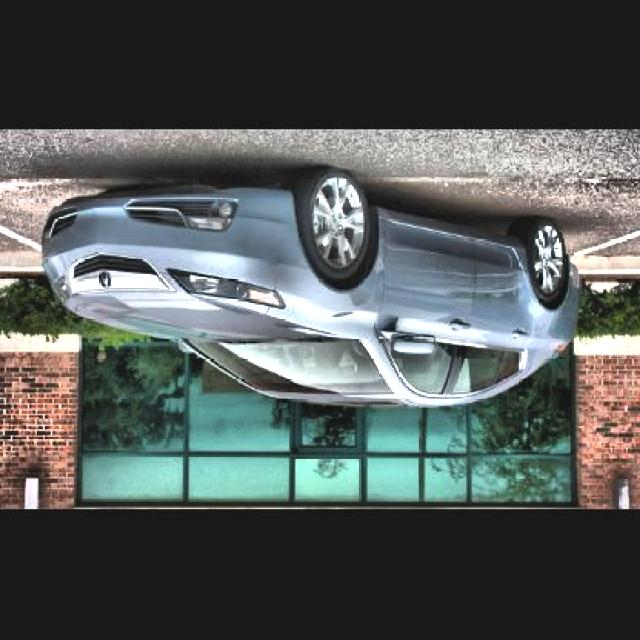silver: (39, 167, 579, 405)
